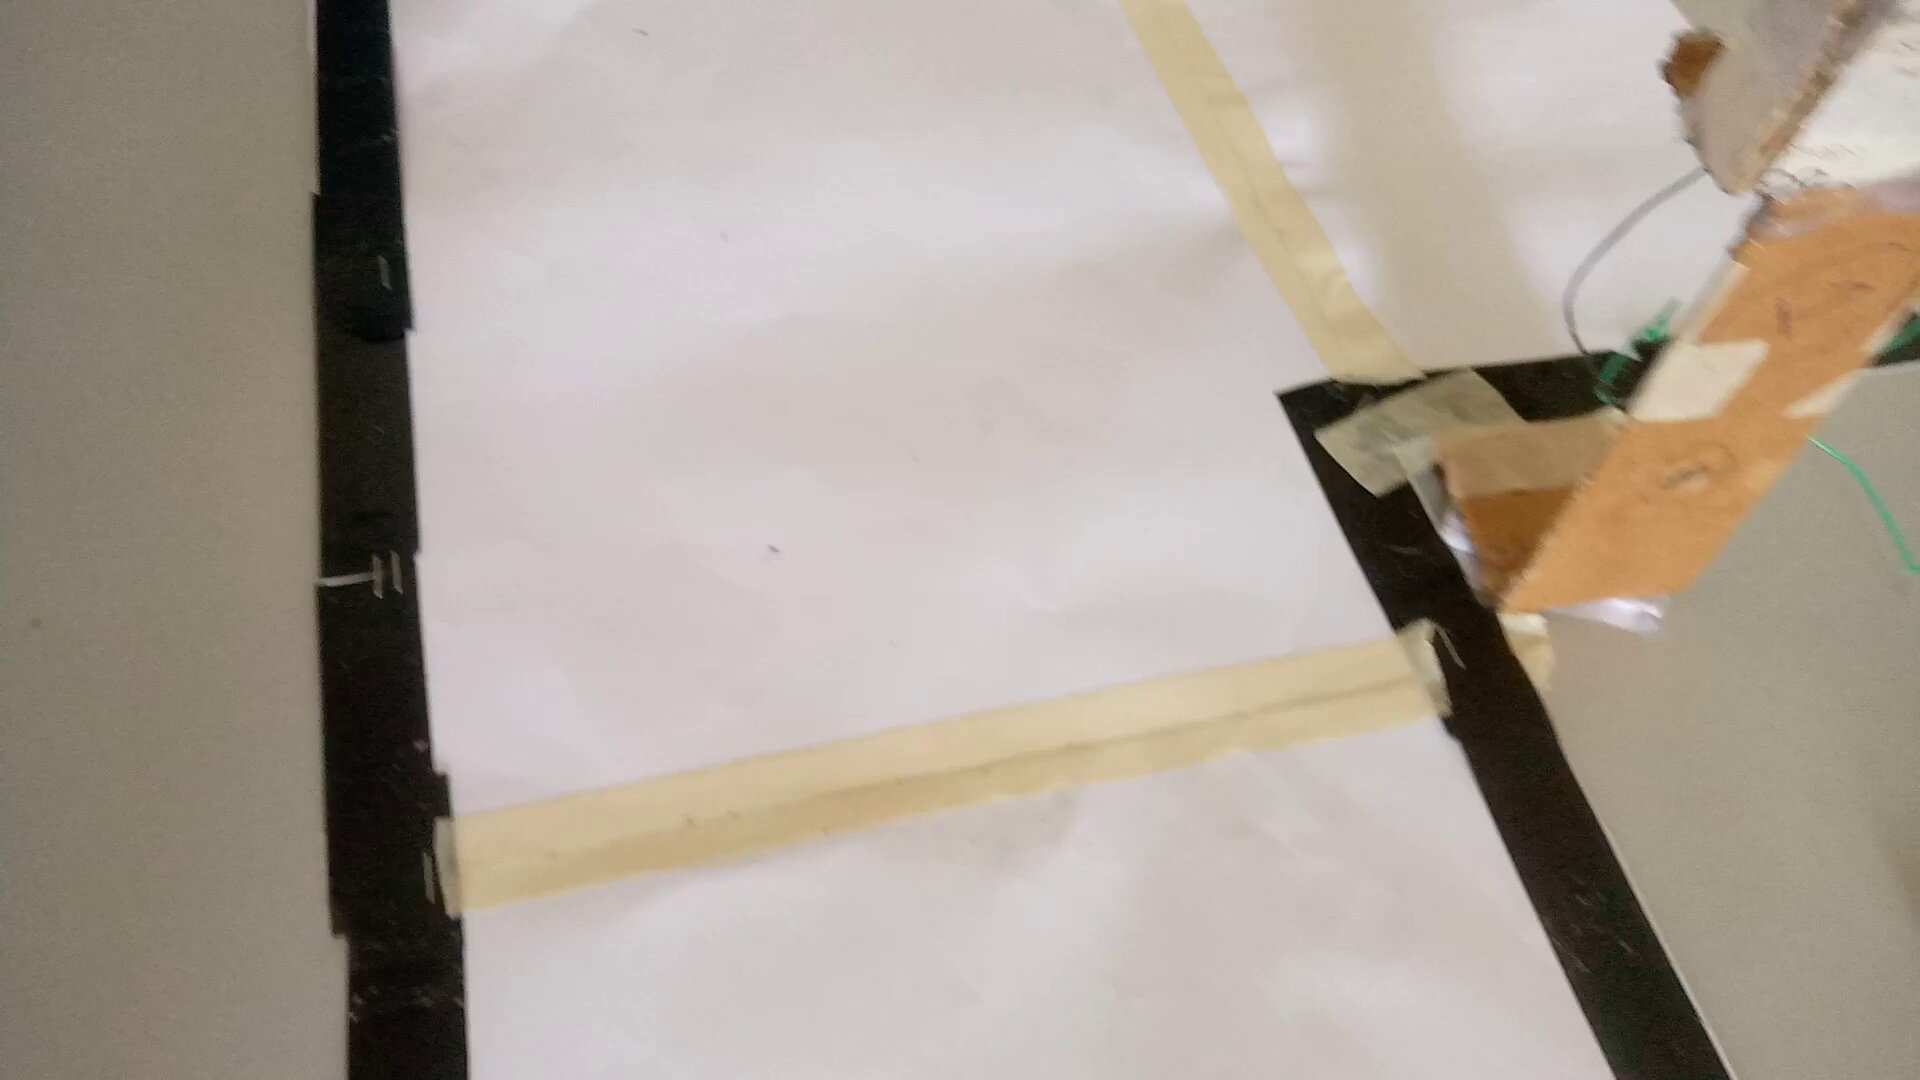right: (252, 1, 1433, 485)
